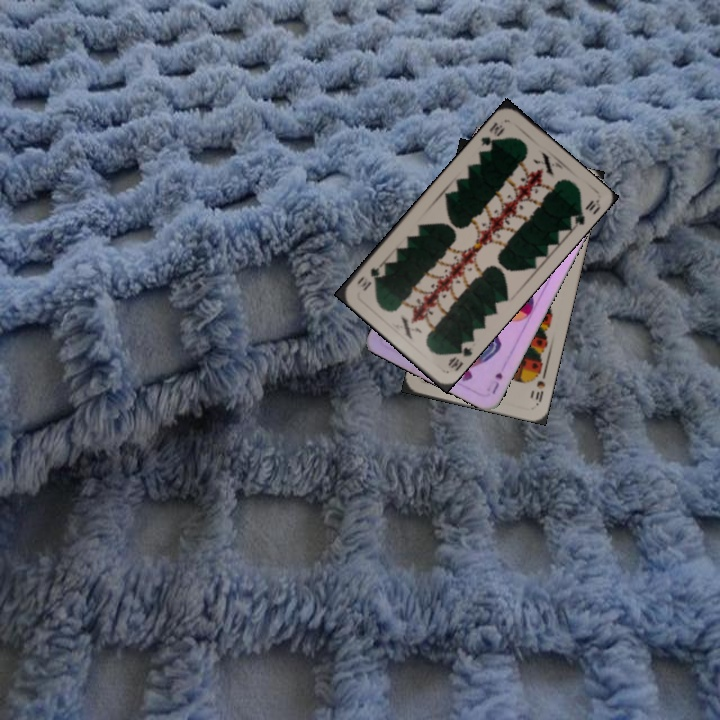G10: (444, 337, 475, 374), (476, 118, 508, 150)
S10: (531, 367, 549, 407)
SU: (486, 368, 505, 397)
